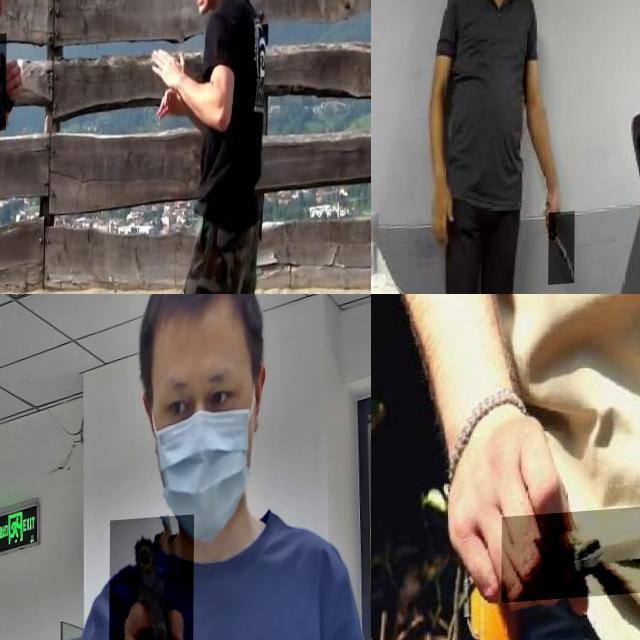-: (501, 506, 640, 606), (0, 37, 21, 136), (548, 215, 576, 289)
gun-knife-thesis - v11 Yolov5 augmented: (109, 519, 194, 640)
